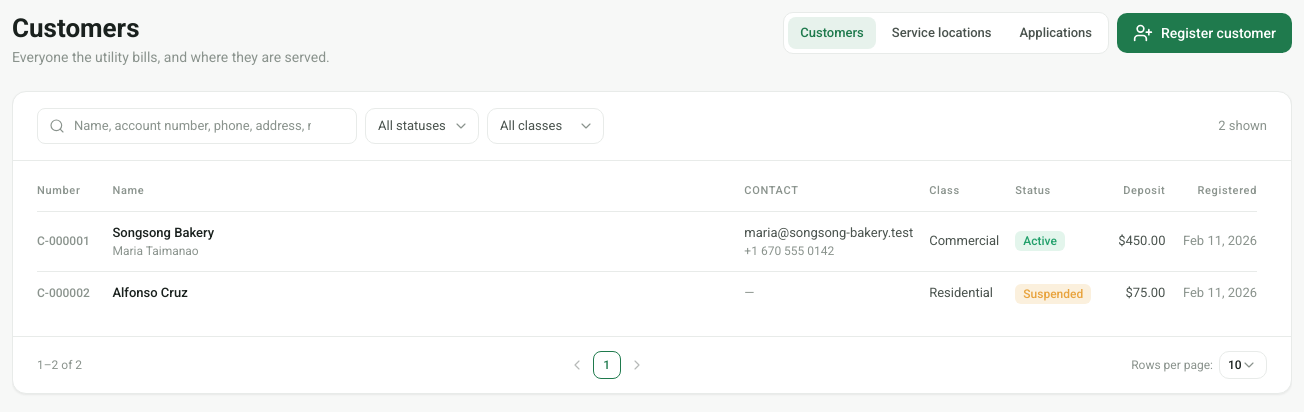
Test: CustomersPage › the search field › explains each row only while a search is what produced it
The image size is (1304, 412).
Expected: the text "Songsong Bakery" is shown, [112,225,214,240]
Expected: the button "matched on" is not shown
Type "cruz" into the search field named "Search customers" at coordinates (197, 126), box [37,108,357,144]
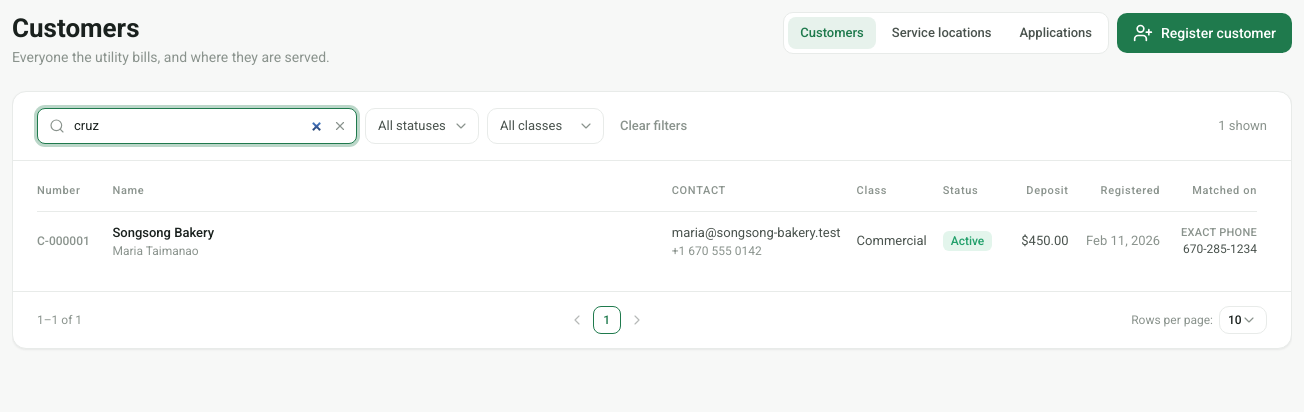
Now the button "Matched on" is shown, box [1172,180,1261,200]
